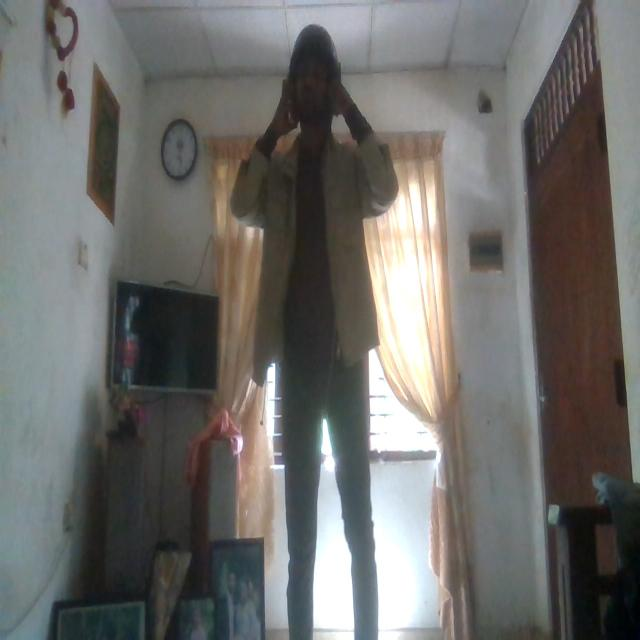Helmet_Wearer: (284, 20, 344, 140)
Jacket_Wearer: (231, 124, 403, 361)
Person: (234, 38, 396, 640)
